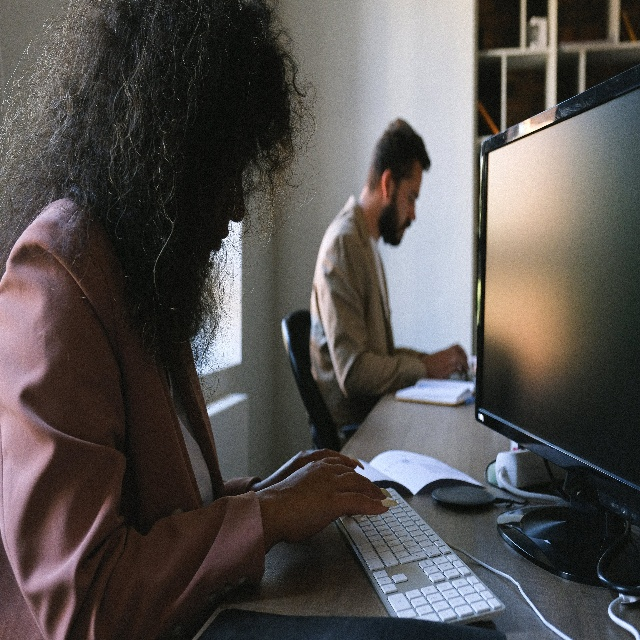Sin_guantes: (275, 466, 395, 553), (425, 344, 469, 383)
